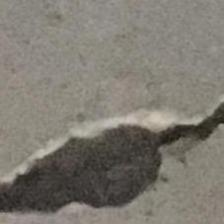Crack: (0, 24, 223, 224)
